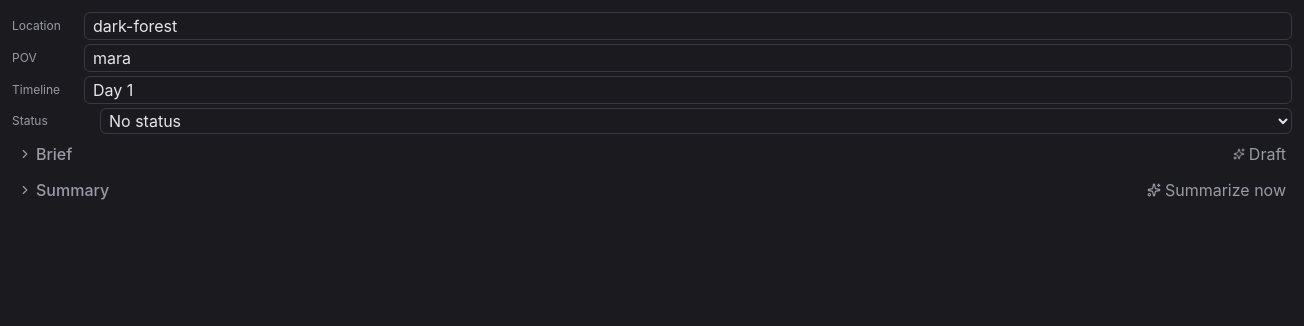
Test: MetadataPane summary (F-5.6) › keeps the summary collapsed until its toggle is clicked, then shows the stored row
This screenshot has width=1304, height=326.
Step 1. Click the button "Summary" → (64, 190), box top-left (12, 174), bottom-right (115, 206)
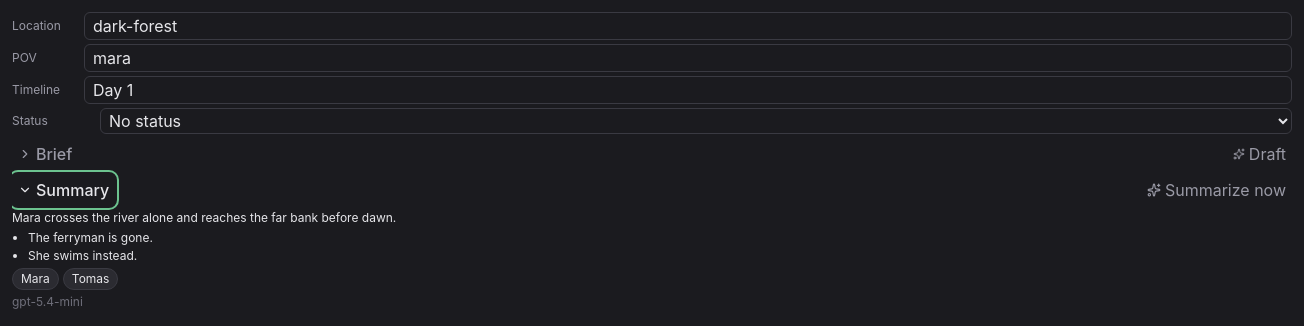
Check: the button "Summary" is expanded, box top-left (12, 174), bottom-right (115, 206)
Check: the text with test id "summary-text" reads "Mara crosses the river alone and reaches the far bank before dawn.", box top-left (12, 210), bottom-right (396, 225)
Check: the list items read "The ferryman is gone.", "She swims instead.", in this order, box top-left (28, 230), bottom-right (153, 245); top-left (28, 248), bottom-right (137, 263)
